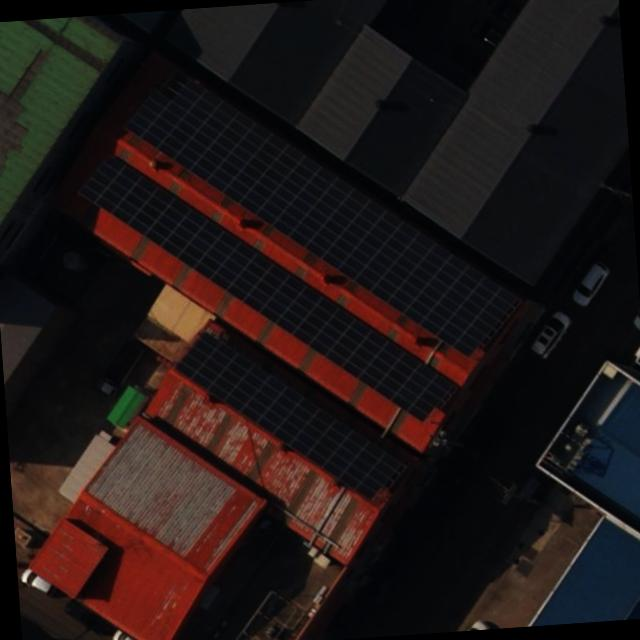solar: (113, 37, 528, 381), (72, 125, 460, 444), (169, 310, 403, 514)
